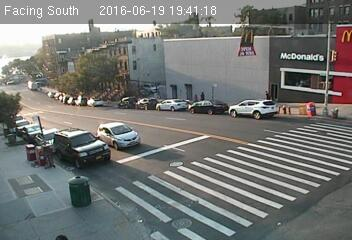neg: (26, 141, 50, 173), (50, 120, 71, 148), (116, 78, 136, 105), (52, 85, 71, 110), (79, 94, 97, 118), (39, 65, 54, 84), (24, 85, 34, 99)
pos: (260, 88, 275, 107), (199, 90, 210, 104), (192, 92, 202, 105)
